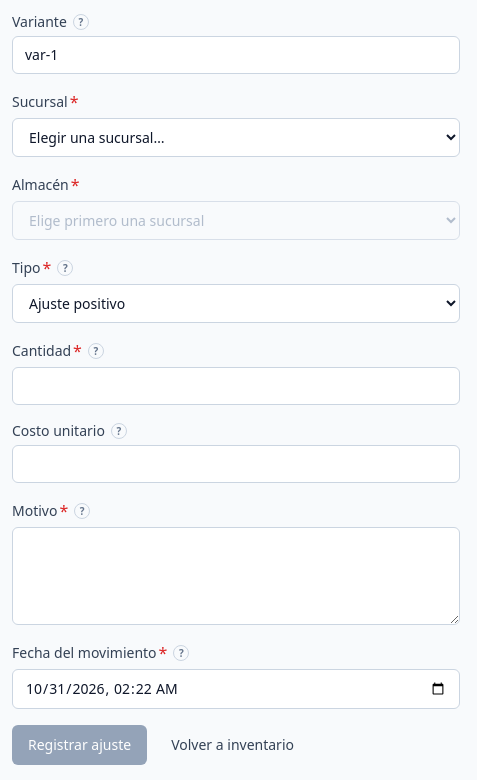
AdjustmentForm › offers an OPTIONAL "Costo unitario" for an inbound adjustment: sent when filled, omitted when empty
The image size is (477, 780).
Select "Sucursal Central" in the dropdown labelled "Sucursal" at (236, 138), box [12,118,460,157]
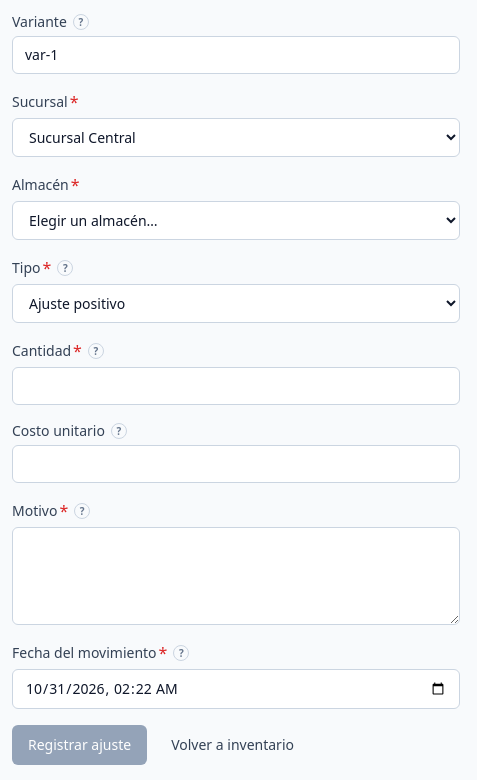
Select "Central / General" in the dropdown labelled "Almacén" at (236, 220), box [12,201,460,240]
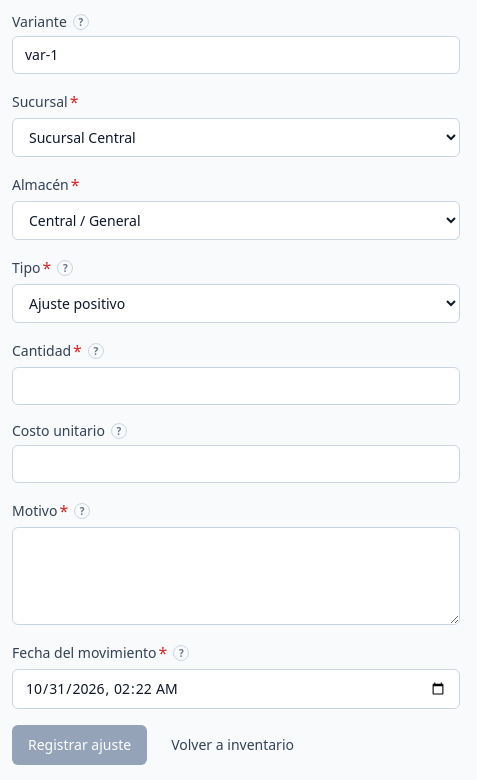
Type "3" into the number field labelled "Cantidad".
click(236, 386); type("3")  # box [12,367,460,405]
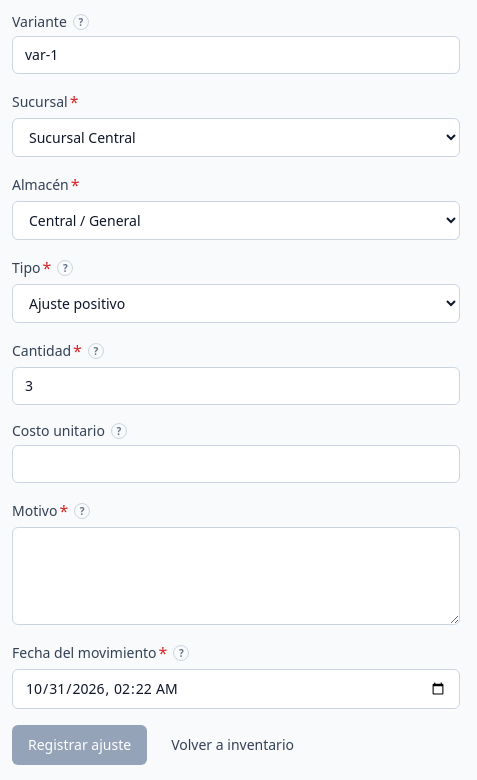
Type "conteo" into the text box labelled "Motivo".
click(236, 576); type("conteo")  # box [12,527,460,625]
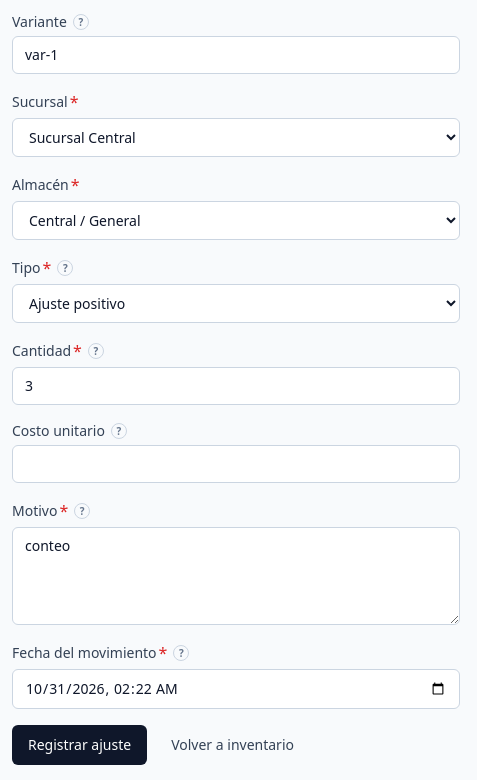
Now the button "Registrar ajuste" is enabled, box [12,725,147,765]
Type "12.5" into the number field labelled "Costo unitario".
click(236, 464); type("12.5")  # box [12,445,460,483]
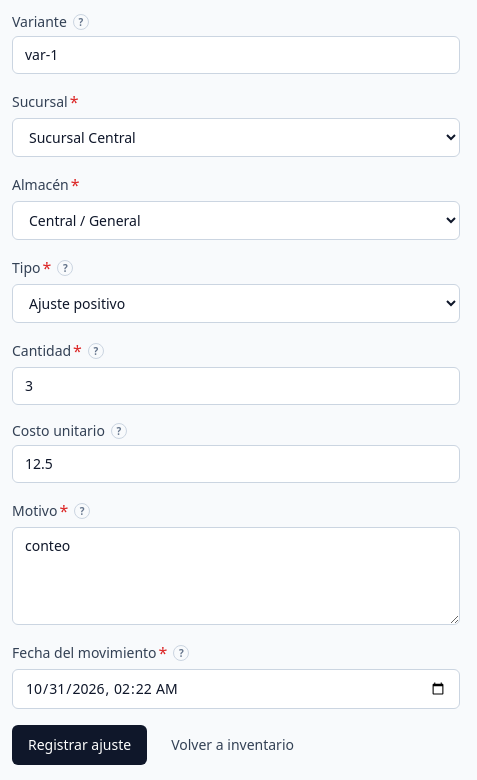
Click the button "Registrar ajuste".
click(80, 745)  # box [12,725,147,765]
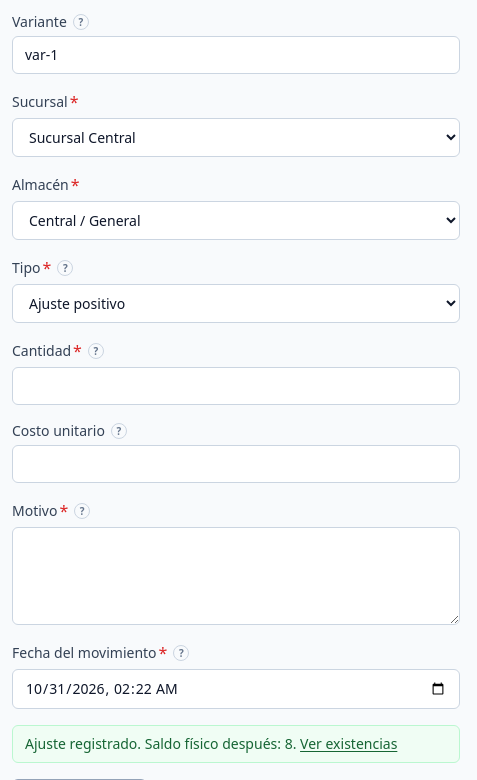
Now the text "Ajuste registrado. Saldo físico después: 8. Ver existencias" is shown, box [25,734,447,754]
